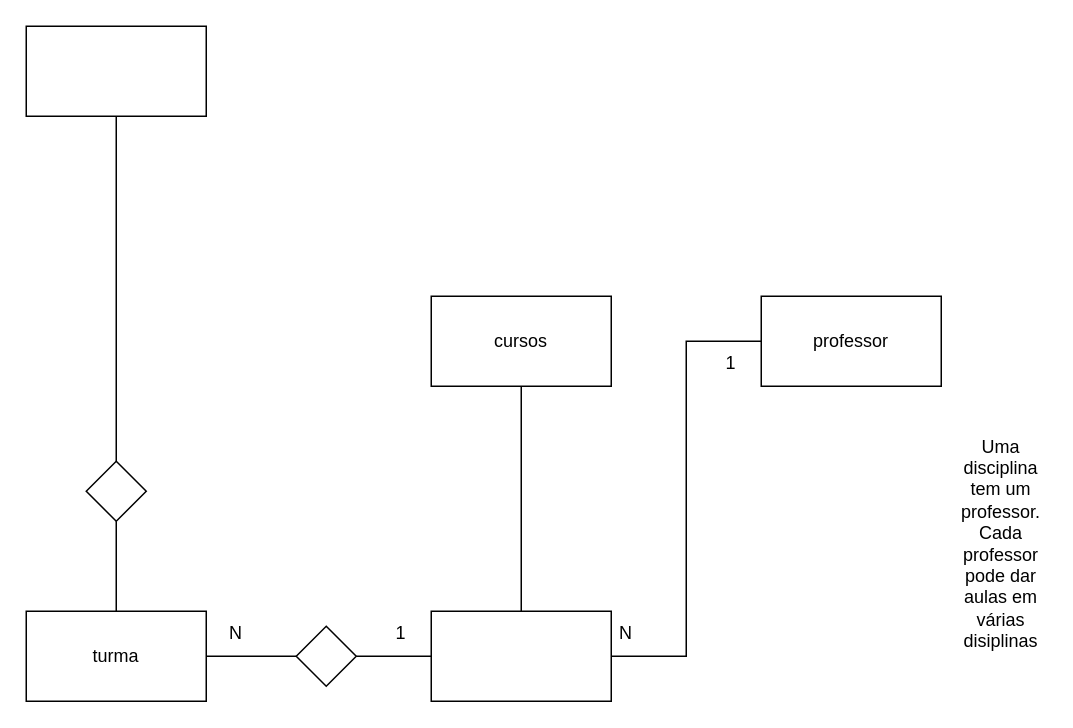
Image size: 1073x728. Some labels were removed from this diagram. Here are the shapes that lost their labels. From the top down, the centre of each, then its label:
At (115,70): "alunos".
At (520,655): "disciplinas".
